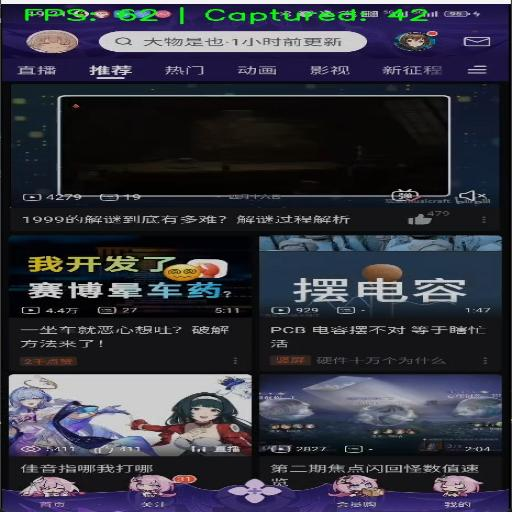butten: (262, 237, 509, 370), (4, 247, 256, 374)
input: (105, 32, 365, 50)
